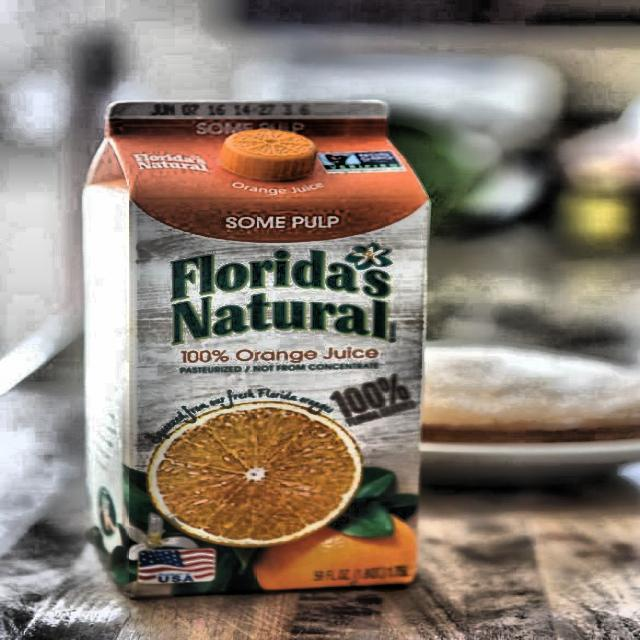cardboard: (82, 99, 431, 598)
